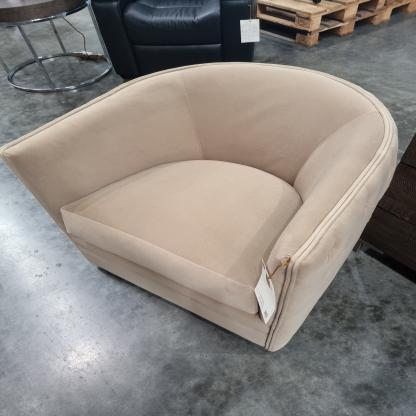Sofa: (2, 42, 416, 363)
